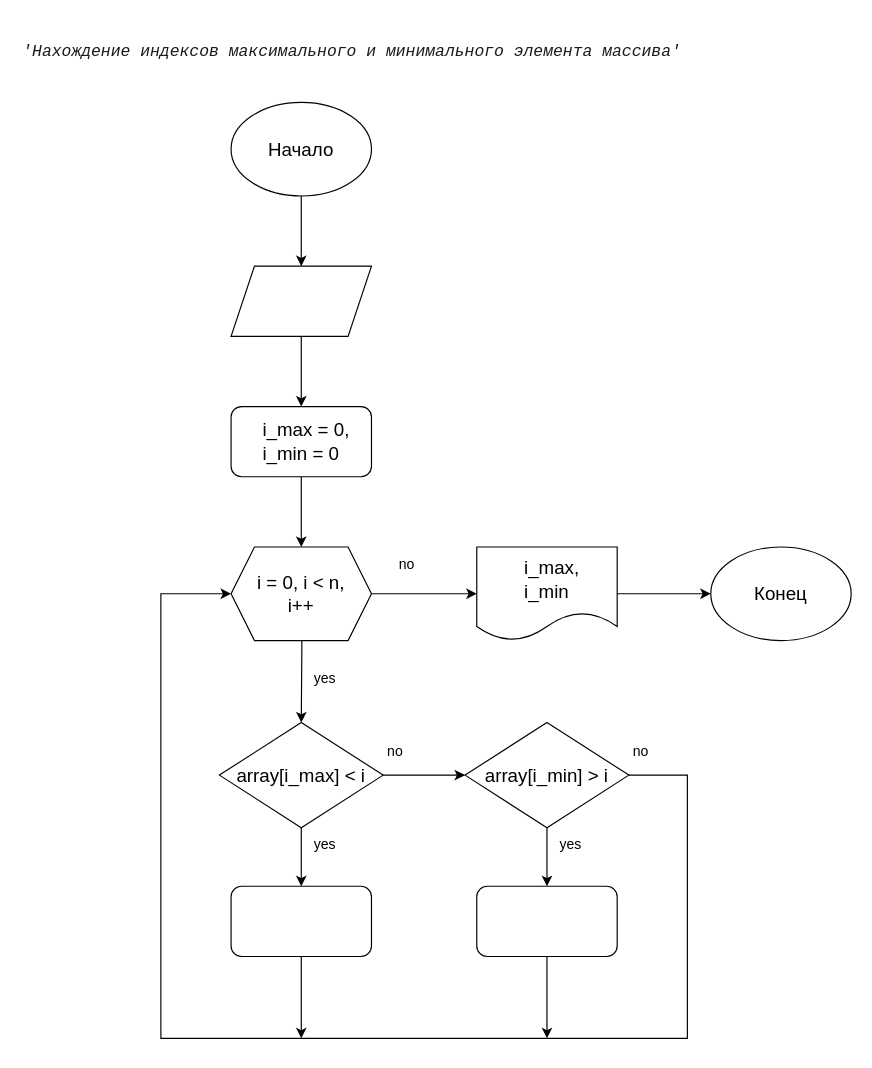
The diagram is 872 pixels wide and 1068 high, and some of its shapes have lost their labels. The shapes that lost their labels are listed below. From the top down, each one's centre as x and y in pixels, then its label:
(x=300, y=300): n, array[n]
(x=300, y=920): i_max = i
(x=546, y=920): i_min = i
